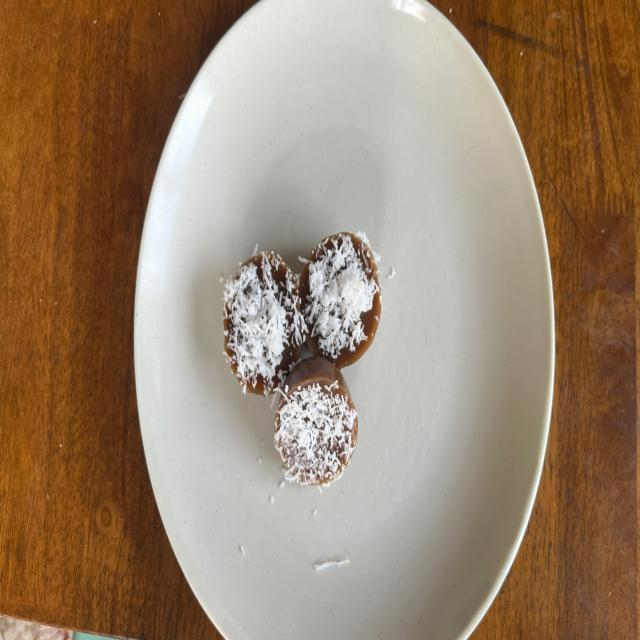Kuih lompang: (224, 251, 306, 396), (299, 233, 381, 369), (275, 358, 358, 484)
